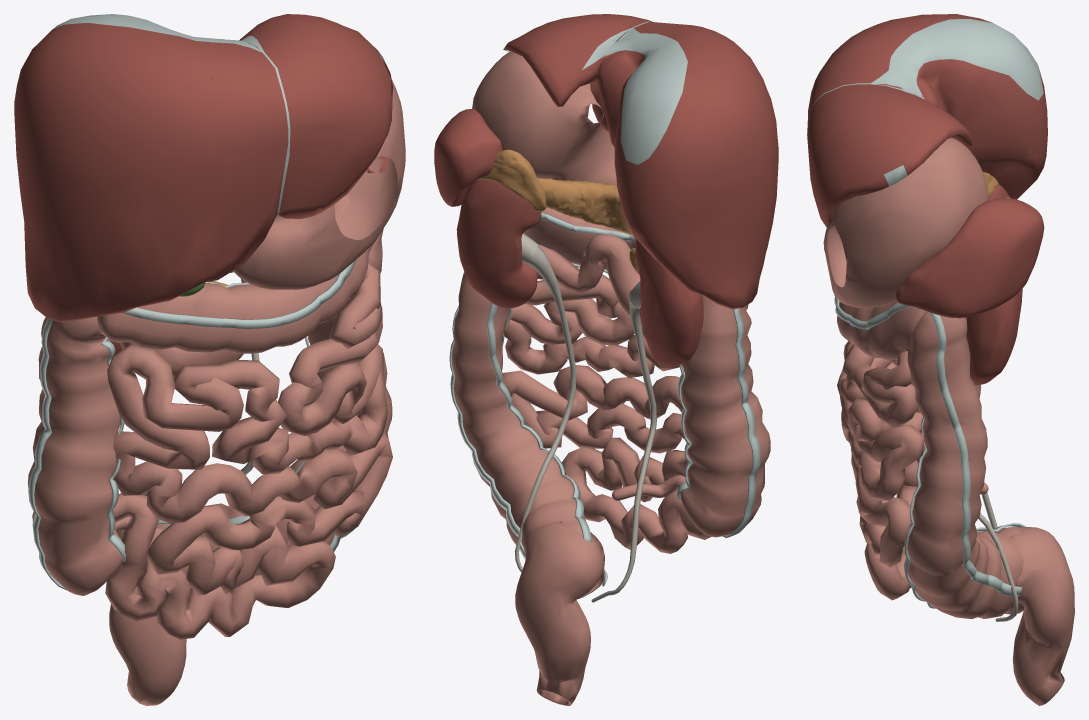
The model's file is organs-abdomen.glb.
The picture shows the model from 3 angles, left to right: view 1: azimuth 30°, elevation 25°; view 2: azimuth 150°, elevation 25°; view 3: azimuth 270°, elevation 25°; orthographic projection. The views are drawn at different scales.
Parts seen in each view (by area): view 1: organ-liver, organ-jejunum, organ-ascending-colon, organ-transverse-colon, organ-stomach, organ-sigmoid-colon, organ-mesocolic-taenia, organ-descending-colon, organ-duodenum, organ-omental-taenia; view 2: organ-liver, organ-jejunum, organ-ascending-colon, organ-descending-colon, organ-sigmoid-colon, organ-stomach, organ-kidney-l, organ-kidney-r, organ-spleen, organ-pancreas, organ-mesocolic-taenia, organ-free-taenia (+6 smaller); view 3: organ-liver, organ-descending-colon, organ-stomach, organ-jejunum, organ-spleen, organ-sigmoid-colon, organ-mesocolic-taenia, organ-kidney-l, organ-transverse-colon, organ-omental-taenia, organ-ureter-l.
Part boxes in pixels (x1,y1,x2,y2): organ-liver: [14, 14, 393, 322]; organ-jejunum: [105, 263, 392, 639]; organ-ascending-colon: [27, 316, 122, 595]; organ-transverse-colon: [97, 195, 373, 353]; organ-stomach: [233, 80, 405, 289]; organ-sigmoid-colon: [109, 528, 186, 705]; organ-mesocolic-taenia: [28, 260, 355, 590]; organ-descending-colon: [156, 229, 392, 588]; organ-duodenum: [120, 280, 248, 377]; organ-omental-taenia: [101, 337, 354, 562]; organ-liver: [503, 14, 778, 308]; organ-jejunum: [503, 244, 711, 553]; organ-ascending-colon: [680, 295, 770, 537]; organ-descending-colon: [452, 273, 604, 599]; organ-sigmoid-colon: [515, 521, 604, 705]; organ-stomach: [472, 51, 616, 185]; organ-kidney-l: [456, 179, 541, 308]; organ-kidney-r: [635, 239, 703, 366]; organ-spleen: [434, 109, 502, 206]; organ-pancreas: [537, 178, 639, 274]; organ-mesocolic-taenia: [449, 272, 760, 559]; organ-free-taenia: [487, 212, 692, 542]; organ-liver: [807, 14, 1047, 228]; organ-descending-colon: [907, 311, 1024, 618]; organ-stomach: [823, 137, 988, 308]; organ-jejunum: [837, 341, 924, 600]; organ-spleen: [895, 198, 1044, 318]; organ-sigmoid-colon: [1010, 527, 1074, 705]; organ-mesocolic-taenia: [834, 296, 1022, 596]; organ-kidney-l: [966, 288, 1022, 384]; organ-transverse-colon: [837, 300, 925, 359]; organ-omental-taenia: [896, 359, 935, 608]; organ-ureter-l: [978, 513, 1018, 621].
Size of the model in its own units: 0.2294 by 0.4543 by 0.1712.
